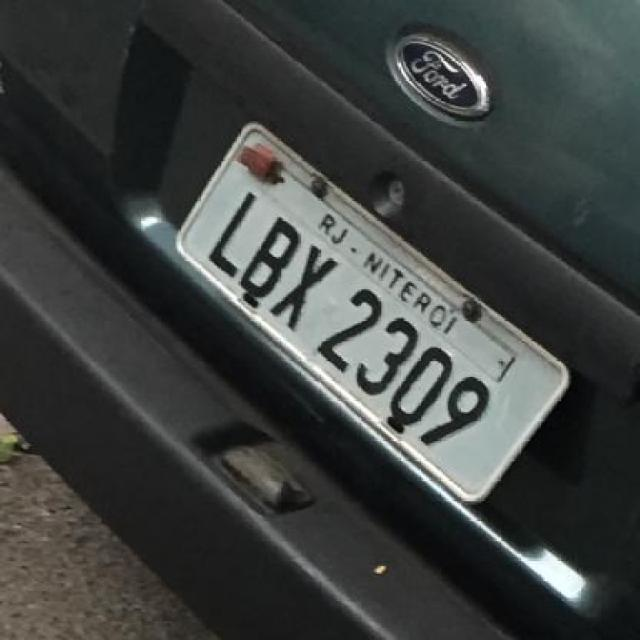old_plate: (155, 116, 580, 514)
